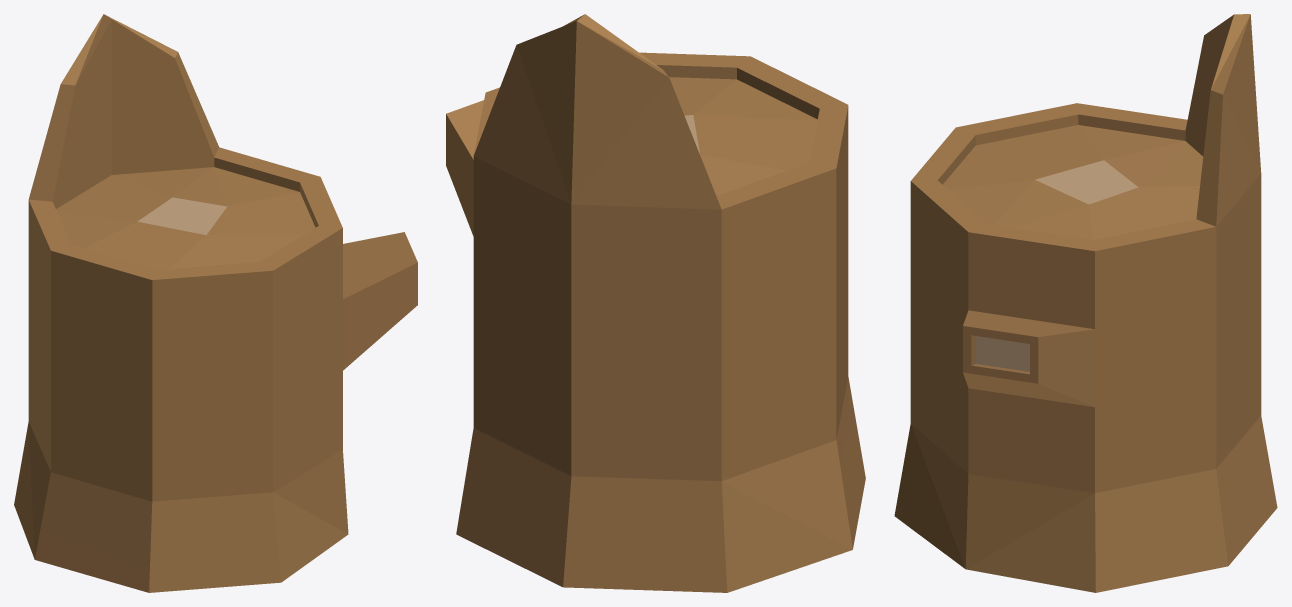
File: Stump.fbx
3 renders of one model, left to right at view 1: azimuth 30°, elevation 25°; view 2: azimuth 150°, elevation 25°; view 3: azimuth 270°, elevation 25°, orthographic. The views are drawn at different scales.
Parts seen in each view (by area): view 1: Stump_01; view 2: Stump_01; view 3: Stump_01.
Boxes of the visible parts, left/top/right/bottom form: Stump_01: left=14, top=14, right=417, bottom=592; Stump_01: left=446, top=14, right=865, bottom=592; Stump_01: left=894, top=14, right=1277, bottom=592.
Bounding box in the file's own units: 28.77 × 35.48 × 24.91.
